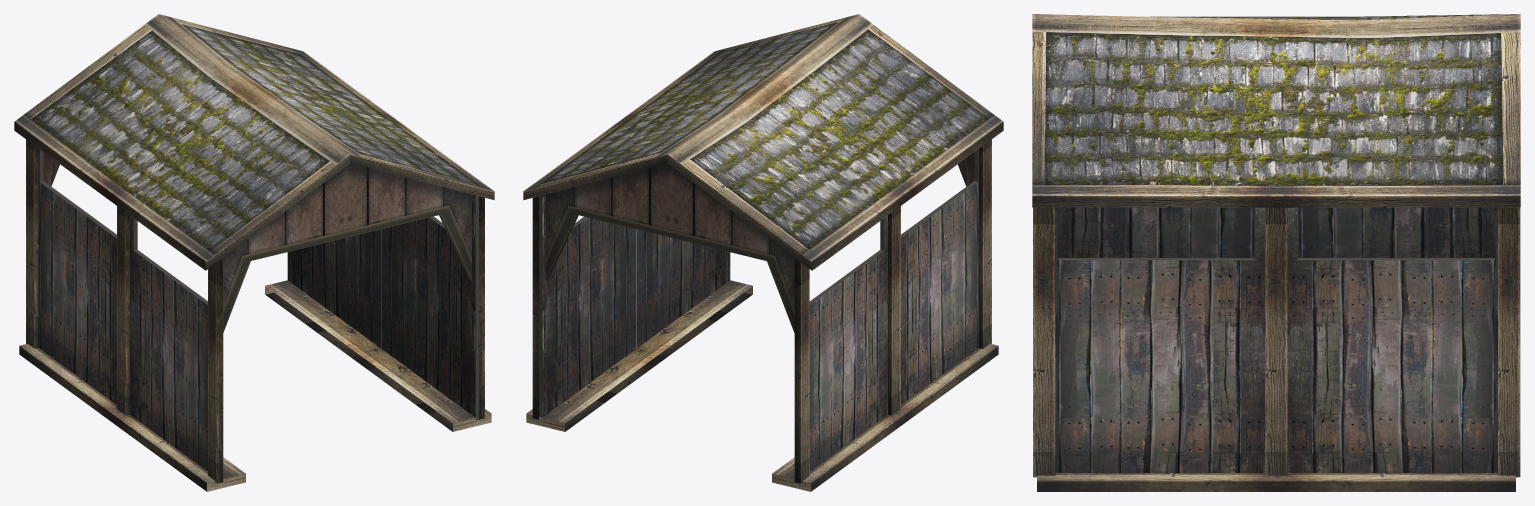
File: wooden_booth_01.fbx
3 views of the same model, side by side, from view 1: azimuth 30°, elevation 25°; view 2: azimuth 150°, elevation 25°; view 3: azimuth 270°, elevation 25° (orthographic). The views are drawn at different scales.
Visible parts, largest first — view 1: wooden_booth_01; view 2: wooden_booth_01; view 3: wooden_booth_01.
Boxes of the visible parts, bbox=[...] form: wooden_booth_01: bbox=[14, 14, 494, 491]; wooden_booth_01: bbox=[523, 14, 1003, 491]; wooden_booth_01: bbox=[1032, 14, 1520, 491].
Bounding box in the file's own units: 2.84 × 2.86 × 3.26.
